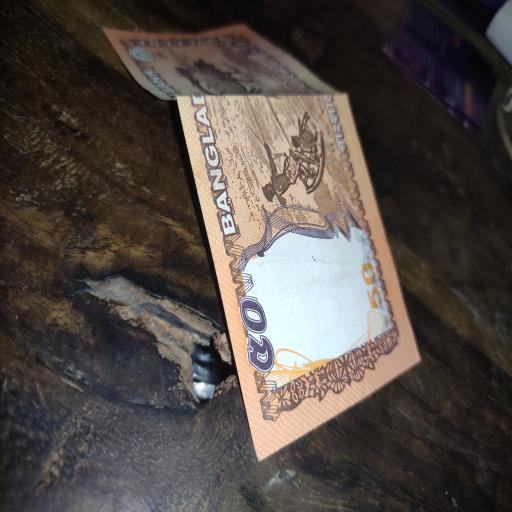50taka: (105, 25, 422, 460)
